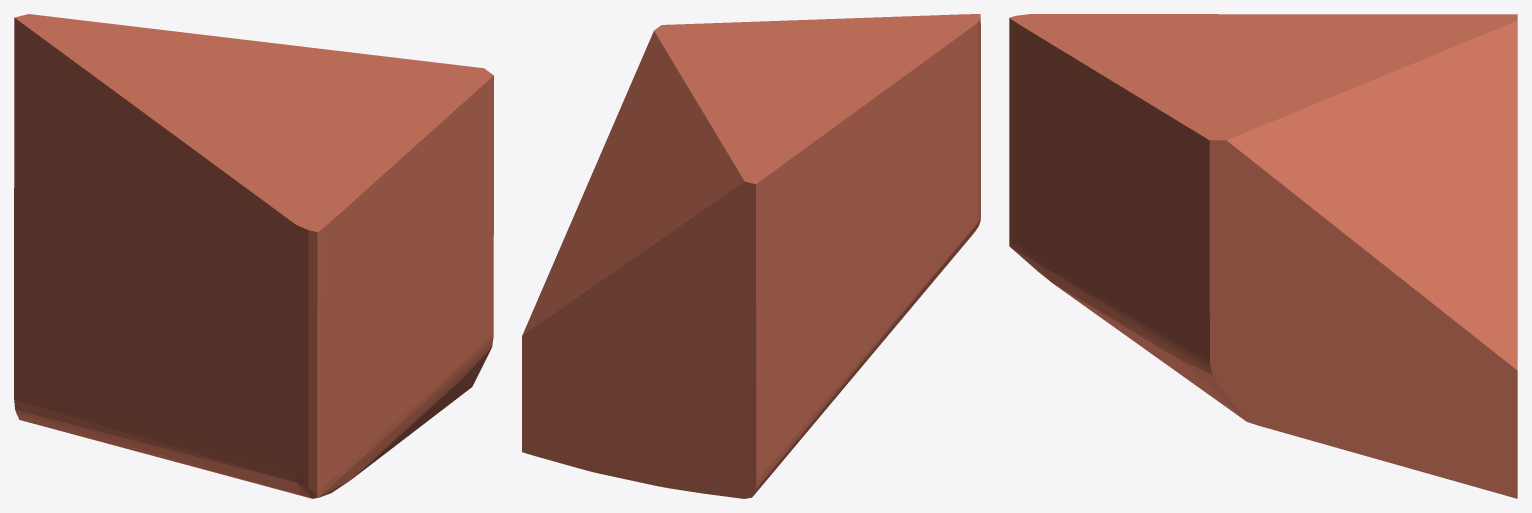
File: right_palm_part_9.obj
The picture shows the model from 3 angles, left to right: view 1: azimuth 30°, elevation 25°; view 2: azimuth 150°, elevation 25°; view 3: azimuth 270°, elevation 25°; orthographic projection. The views are drawn at different scales.
Size of the model in its own units: 11.04 by 14.72 by 18.77.
